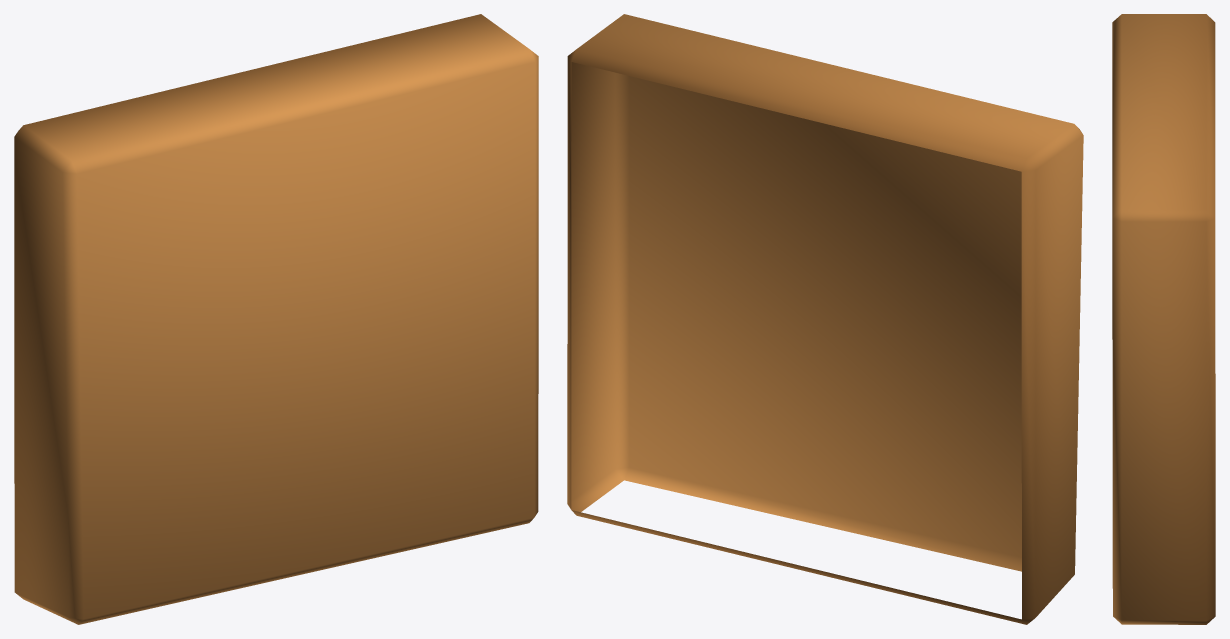
The model's file is block_t2_lo.glb.
3 renders of one model, left to right at view 1: azimuth 30°, elevation 25°; view 2: azimuth 150°, elevation 25°; view 3: azimuth 270°, elevation 25°, orthographic. The views are drawn at different scales.
Visible parts, largest first — view 1: block_t2_lo; view 2: block_t2_lo; view 3: block_t2_lo.
Boxes of the visible parts, left/top/right/bottom form: block_t2_lo: left=14, top=14, right=538, bottom=624; block_t2_lo: left=567, top=14, right=1083, bottom=624; block_t2_lo: left=1112, top=14, right=1215, bottom=624.
Bounding box in the file's own units: 2.1 × 2 × 0.4511.
